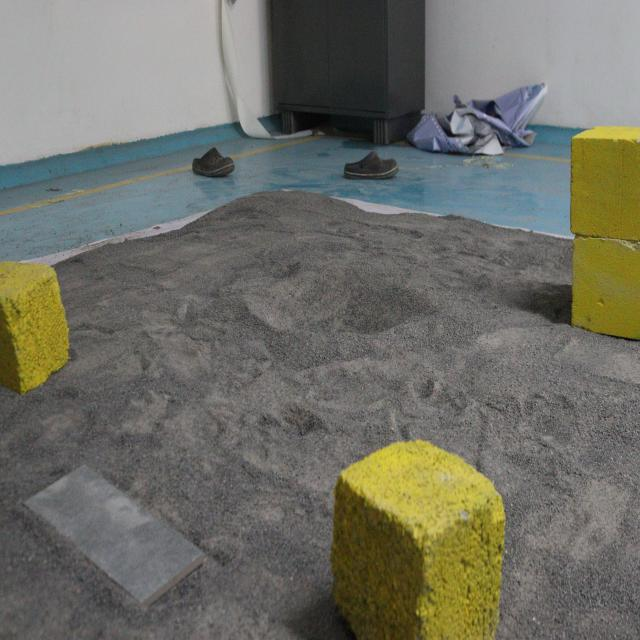box: (329, 434, 503, 640), (559, 120, 640, 342), (0, 256, 75, 393)
crater: (229, 250, 442, 362)
